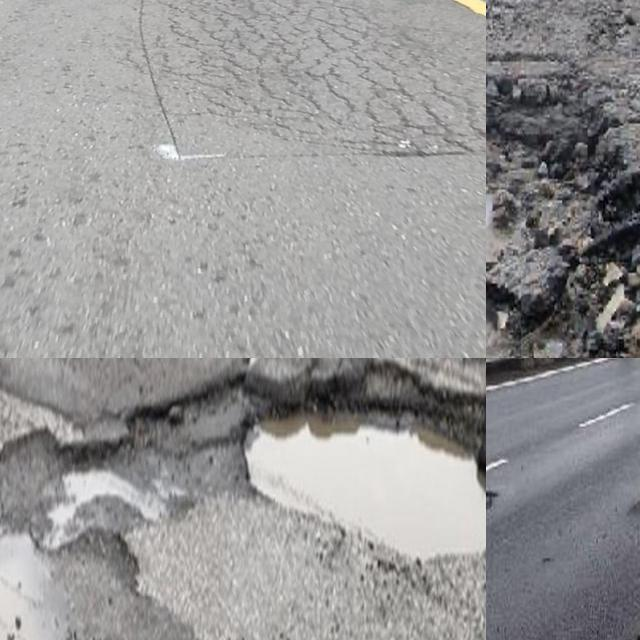Lubang: (243, 364, 486, 564), (486, 76, 640, 358)
Retak Buaya: (161, 0, 486, 156)
